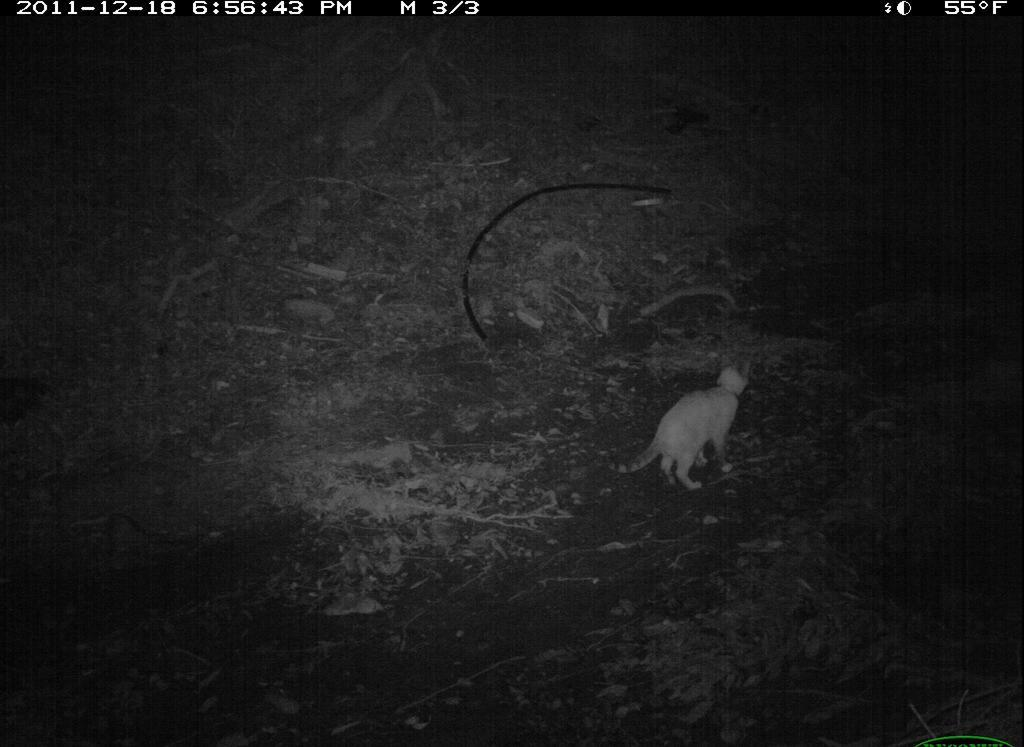cat: (597, 342, 784, 511)
